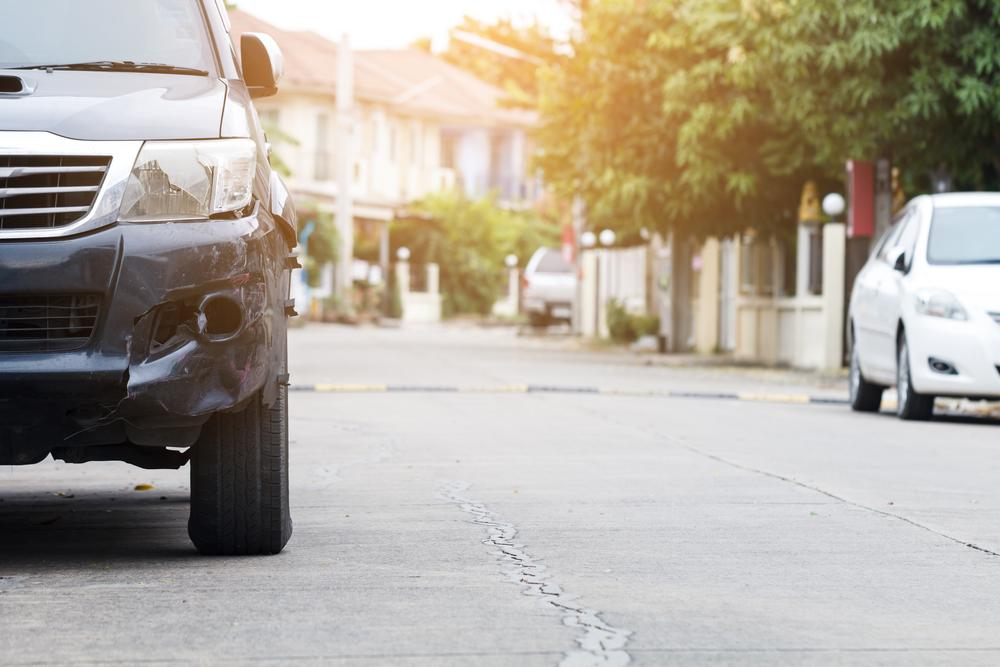crack: (64, 302, 163, 423)
dent: (182, 349, 243, 411)
lamp broken: (117, 136, 258, 223)
scratch: (202, 229, 276, 348)
